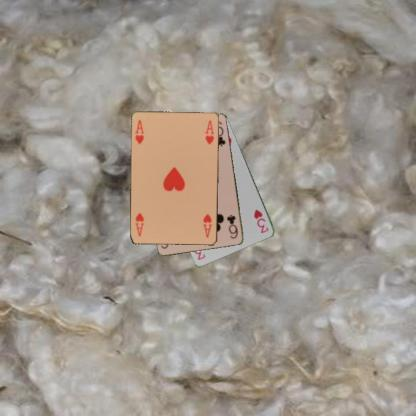3h: (252, 206, 270, 234)
6c: (224, 212, 239, 240)
Ah: (200, 211, 214, 238), (133, 117, 145, 145)
